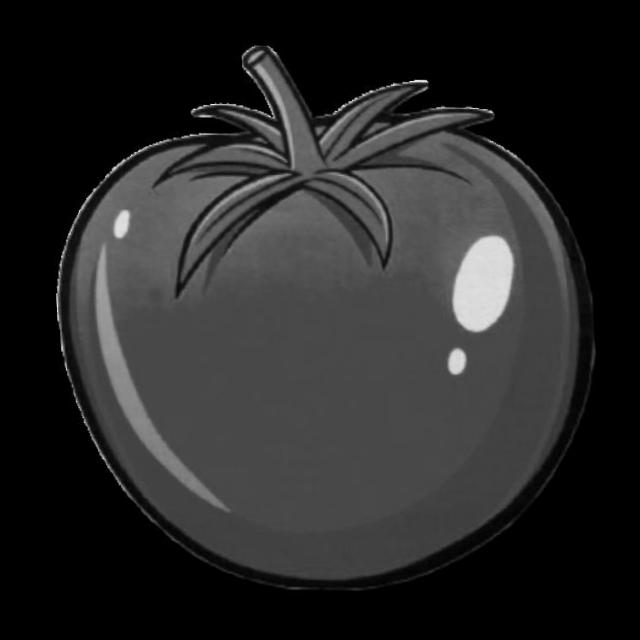kirmizi: (15, 116, 619, 581)
